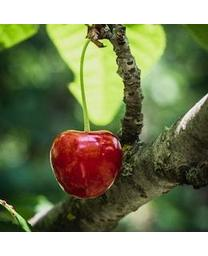cherry: (50, 129, 122, 199)
